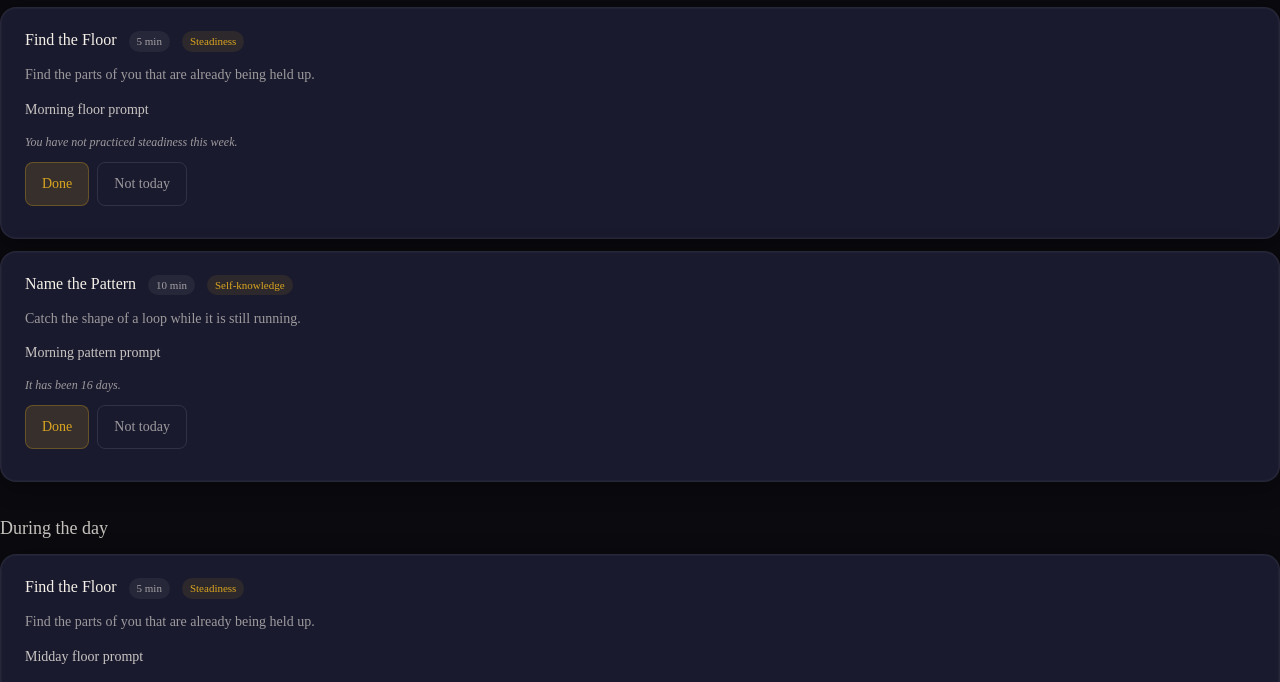
Scenario: DailyProtocol follow-ups › offers the integration prompt after a completion
This screenshot has width=1280, height=682.
Click the button "Done" below "Morning floor prompt" at (57, 184), box [25,162,89,206]
(page scrolled)
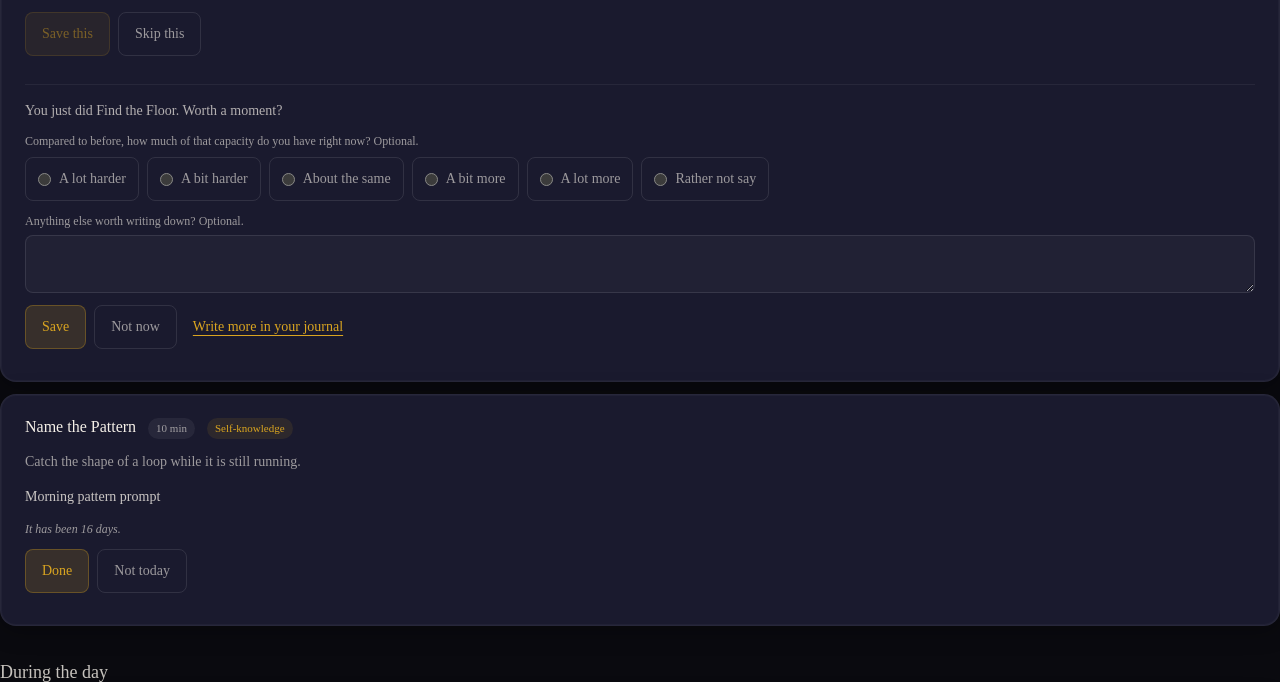
expect the link "Write more in your journal" is shown: met, box [193,319,343,334]
